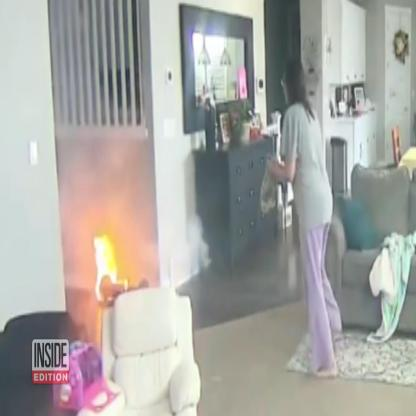fire: (94, 234, 129, 302)
